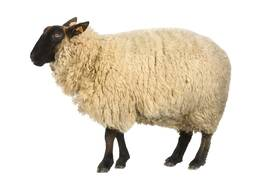sheep: (27, 14, 231, 173)
